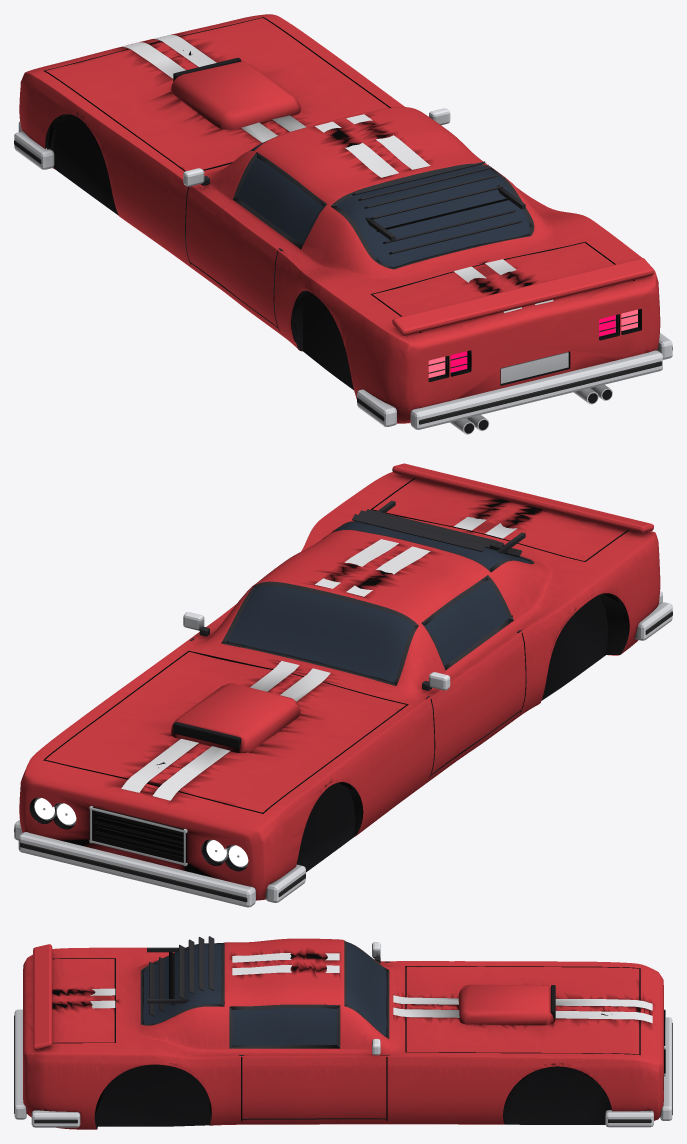
The model's file is muscle_lo.glb.
3 views of the same model, one above another, from view 1: azimuth 30°, elevation 25°; view 2: azimuth 150°, elevation 25°; view 3: azimuth 270°, elevation 25° (orthographic). The views are drawn at different scales.
Visible parts, largest first — view 1: body, glass_panes, part.028, part.080, part.036, part.037, stripe, part.058, stripe.001, stripe.002, stripe.003, part.032 (+1 smaller); view 2: body, glass_panes, part.028, part.030, part.080, stripe, stripe.001, part.031, part.071, object 6, part.029, stripe.002 (+5 smaller); view 3: body, glass_panes, part.028, part.080, stripe.001, stripe, part.036, part.030, part.034, part.040, stripe.003, stripe.002 (+5 smaller).
Part boxes in pixels (left/top/right/bottom): body: left=19, top=14, right=660, bottom=423; glass_panes: left=237, top=140, right=529, bottom=267; part.028: left=171, top=61, right=300, bottom=130; part.080: left=392, top=258, right=653, bottom=335; part.036: left=410, top=350, right=662, bottom=429; part.037: left=419, top=361, right=661, bottom=424; stripe: left=121, top=42, right=277, bottom=142; part.058: left=500, top=352, right=568, bottom=383; stripe.001: left=153, top=35, right=306, bottom=131; stripe.002: left=315, top=121, right=398, bottom=177; stripe.003: left=346, top=114, right=430, bottom=169; part.032: left=14, top=131, right=54, bottom=169; body: left=19, top=472, right=660, bottom=900; glass_panes: left=227, top=521, right=529, bottom=682; part.028: left=171, top=683, right=300, bottom=752; part.030: left=18, top=832, right=255, bottom=907; part.080: left=392, top=463, right=653, bottom=533; stripe: left=153, top=668, right=330, bottom=800; stripe.001: left=121, top=661, right=299, bottom=792; part.031: left=20, top=842, right=247, bottom=902; part.071: left=352, top=514, right=485, bottom=551; object 6: left=97, top=816, right=183, bottom=857; part.029: left=173, top=722, right=241, bottom=748; stripe.002: left=346, top=546, right=430, bottom=596; body: left=23, top=938, right=663, bottom=1129; glass_panes: left=143, top=942, right=386, bottom=1045; part.028: left=458, top=984, right=555, bottom=1025; part.080: left=33, top=944, right=52, bottom=1050; stripe.001: left=393, top=1007, right=652, bottom=1023; stripe: left=393, top=995, right=652, bottom=1010; part.036: left=14, top=1009, right=26, bottom=1119; part.030: left=660, top=1017, right=672, bottom=1120; part.034: left=605, top=1110, right=653, bottom=1127; part.040: left=31, top=1110, right=80, bottom=1127; stripe.003: left=232, top=965, right=339, bottom=975; stripe.002: left=232, top=953, right=339, bottom=962.
Size of the model in its own units: 2.23 by 1.13 by 5.42.
